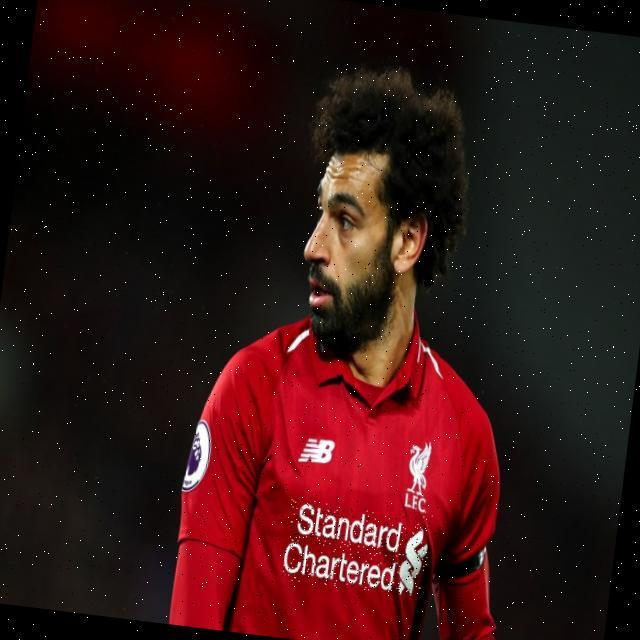Standard Chartered: (281, 498, 432, 597)
